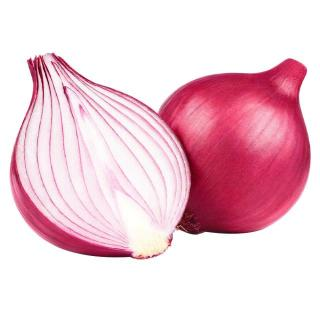Bawang Merah: (6, 52, 314, 263)
